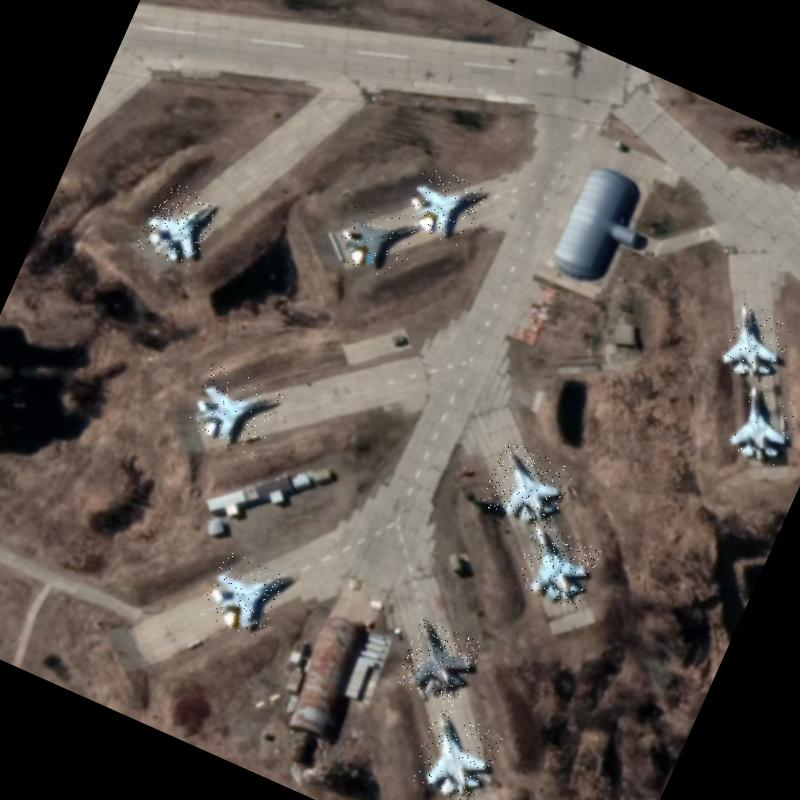A1: (478, 438, 576, 535), (185, 362, 284, 458), (406, 706, 505, 800), (509, 521, 602, 612), (332, 194, 424, 284), (394, 617, 484, 709), (198, 550, 288, 641), (135, 177, 222, 271), (401, 163, 488, 249), (716, 301, 796, 388), (725, 382, 800, 470)
